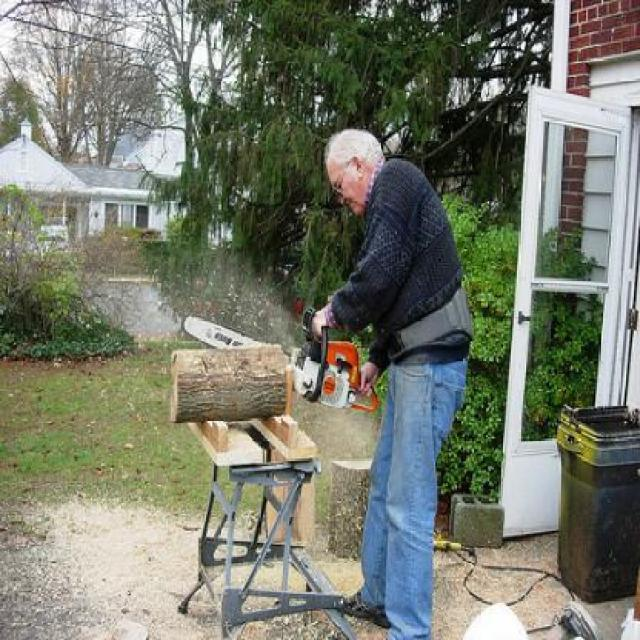Chainsaw: (182, 302, 382, 416)
